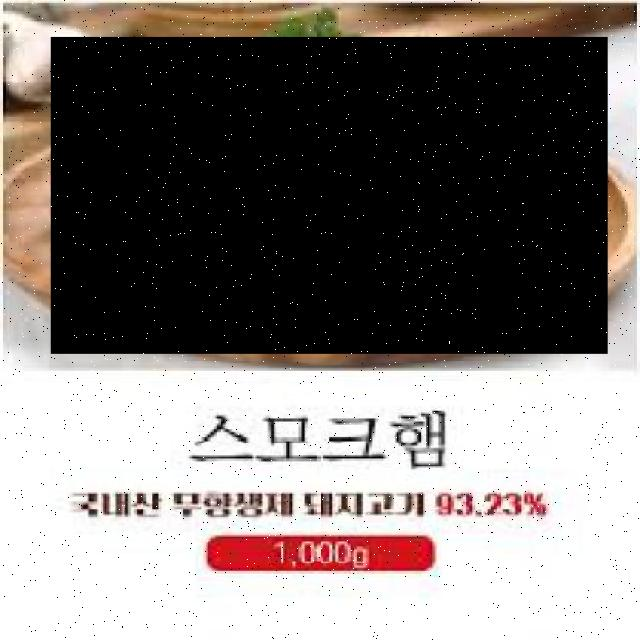Ham: (51, 38, 608, 354)
